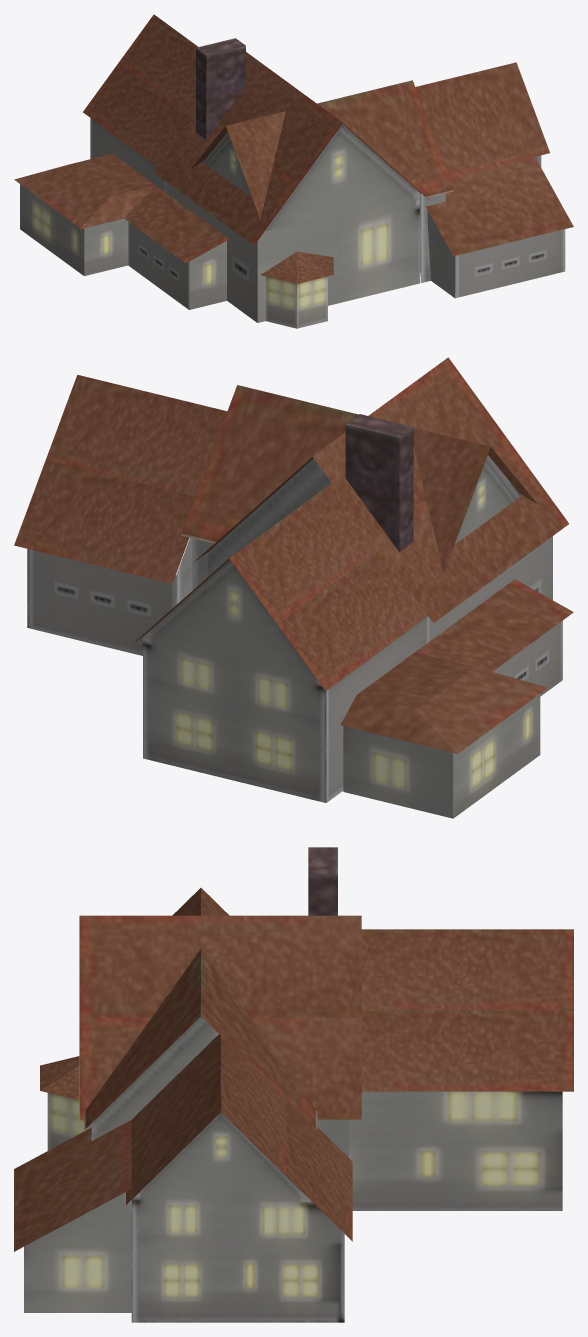
File: villa_brown_night.obj
The picture shows the model from 3 angles, top to bottom: view 1: azimuth 30°, elevation 25°; view 2: azimuth 150°, elevation 25°; view 3: azimuth 270°, elevation 25°; orthographic projection. The views are drawn at different scales.
Visible parts, largest first — view 1: building5; view 2: building5; view 3: building5.
Boxes of the visible parts, <box> form: building5: <box>14,14,573,328</box>; building5: <box>14,357,573,818</box>; building5: <box>14,847,573,1322</box>.
Bounding box in the file's own units: 0.5458 × 0.2721 × 0.4784.
Materials: 1 (1 with a texture image).
